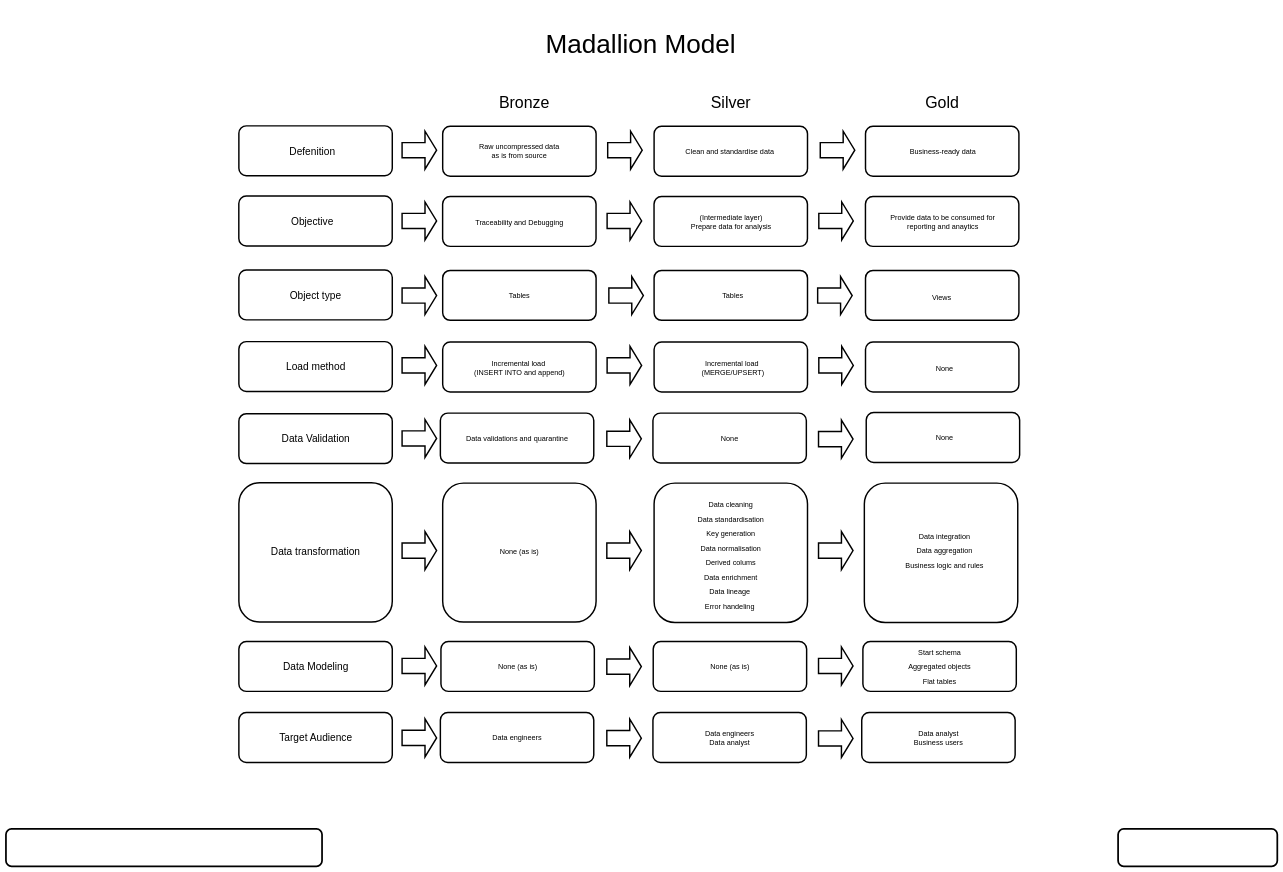
Image size: 1283x872. Some labels were removed from this diagram. Here are the shapes that lost their labels. From the top down, the centre of each, then its label:
At (164,847): "SEPARATIONS OF CONCERNS".
At (1197,847): "V1 [2026/09/07]".
